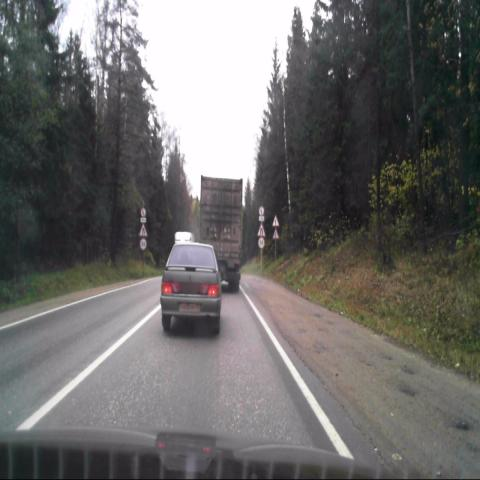1_11: (272, 228, 279, 240)
1_20_2: (258, 222, 266, 236), (139, 223, 147, 237)
2_3_3: (272, 214, 279, 227)
3_24: (139, 238, 147, 250), (257, 237, 264, 248)
